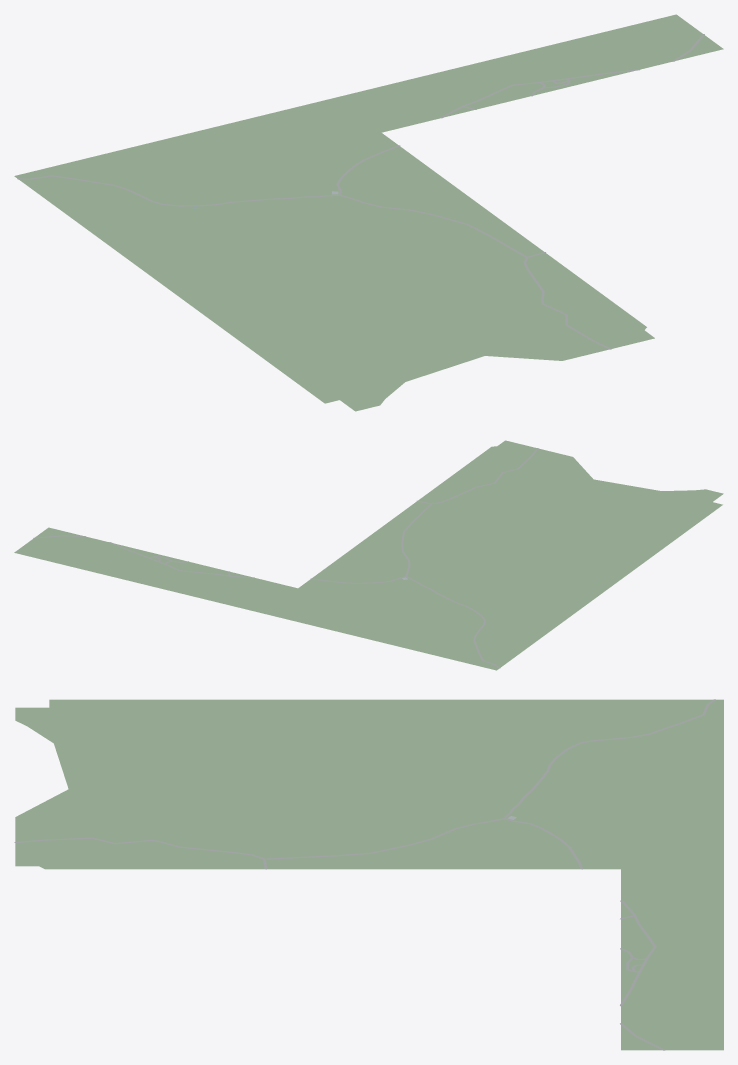
Rendered from -1_3-known-fine.glb.
The picture shows the model from 3 angles, top to bottom: view 1: azimuth 30°, elevation 25°; view 2: azimuth 150°, elevation 25°; view 3: azimuth 270°, elevation 25°; orthographic projection. The views are drawn at different scales.
Size of the model in its own units: 912 by 0.15 by 779.
